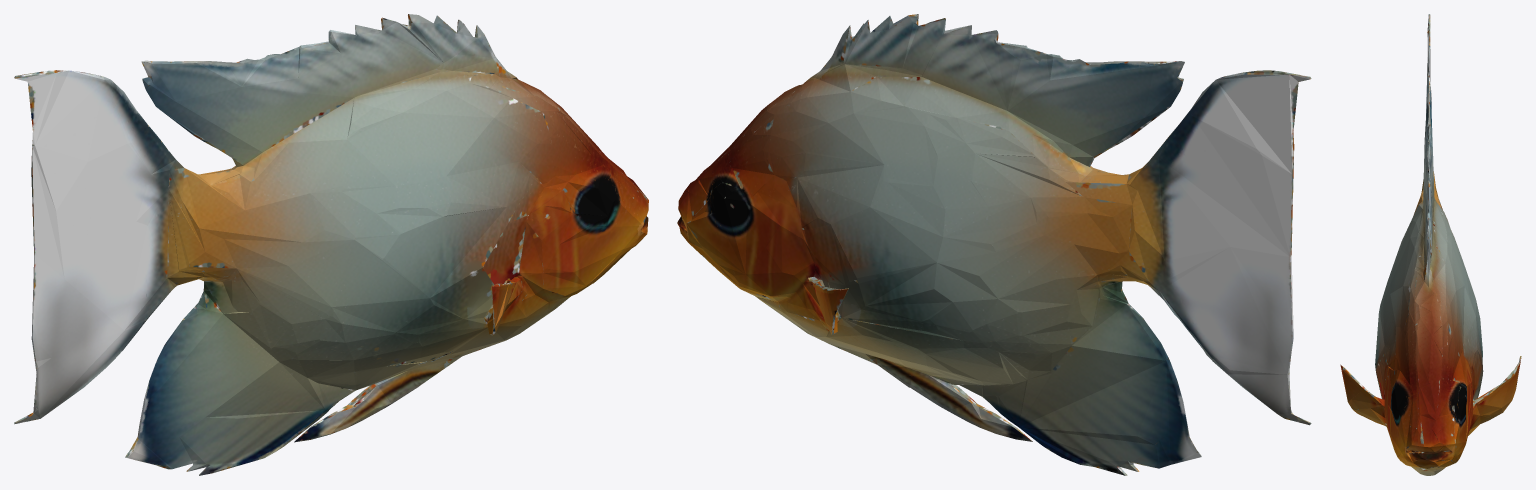
Rendered from fish_0092_smpl23_resized.glb.
3 renders of one model, left to right at view 1: azimuth 30°, elevation 25°; view 2: azimuth 150°, elevation 25°; view 3: azimuth 270°, elevation 25°, orthographic. The views are drawn at different scales.
Visible parts, largest first — view 1: world; view 2: world; view 3: world.
Boxes of the visible parts, x1,y1,x2,y2 form: world: (14, 14, 648, 475); world: (677, 14, 1311, 475); world: (1340, 14, 1521, 475).
Bounding box in the file's own units: 1.99 × 1.34 × 0.6663.
Materials: 1 (1 with a texture image).
